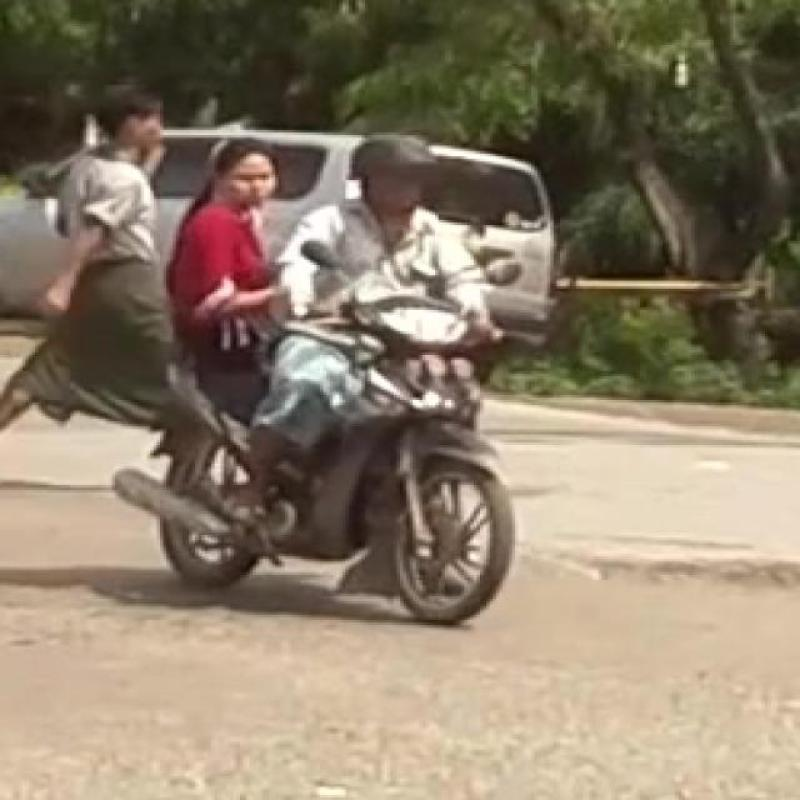nohelmet: (184, 109, 297, 227), (344, 97, 348, 103)
